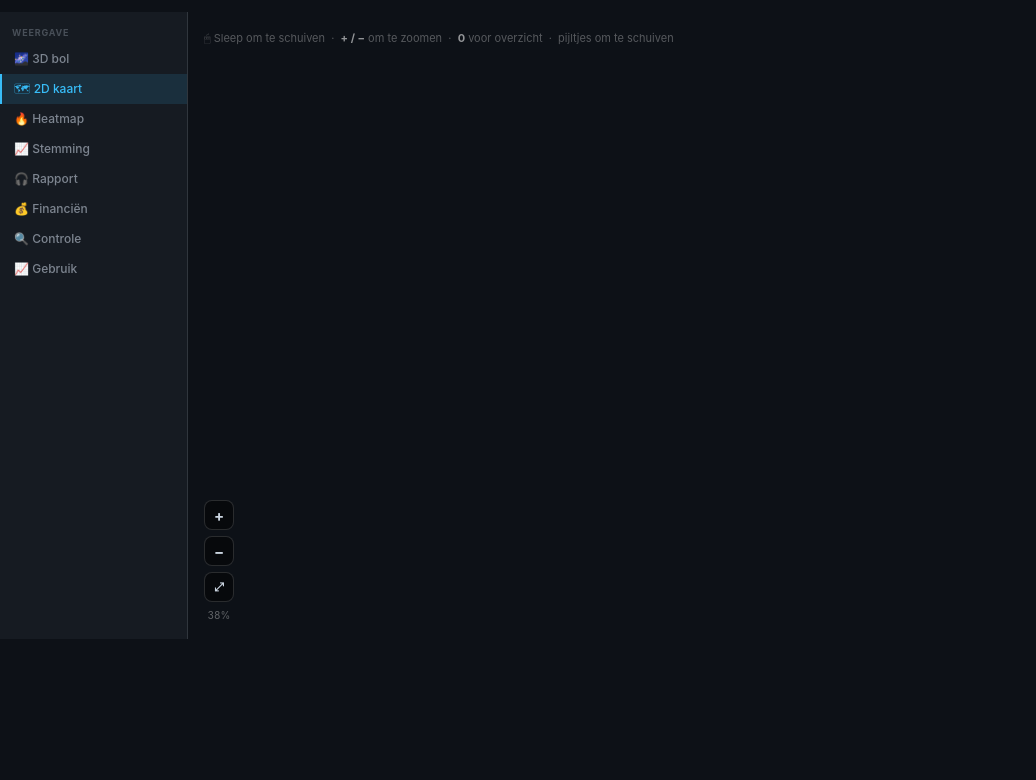
Test: GraphTab — Stemming/Rapport/Financiën modussen › toont Financiën embedded in de modus Financiën, mét userId
This screenshot has width=1036, height=780.
Click the text "💰 Financiën".
click(51, 208)  # box [14,200,88,216]
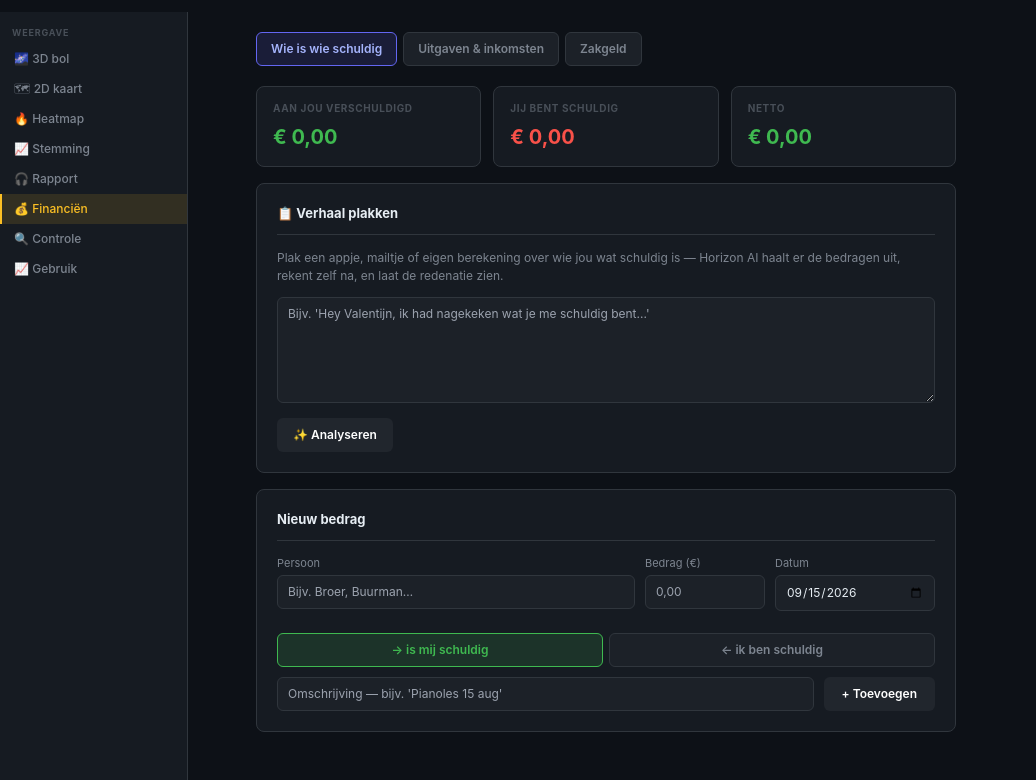
Expected: the button "Wie is wie schuldig" is shown, [256,32,397,66]
